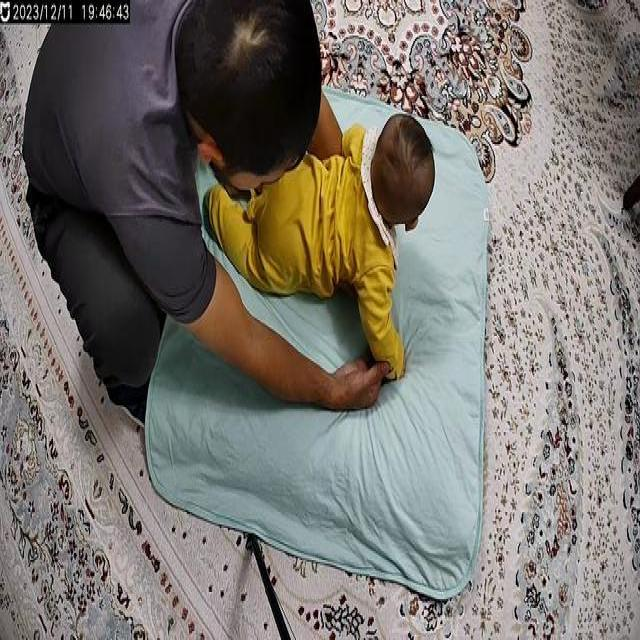baby: (202, 105, 438, 386)
